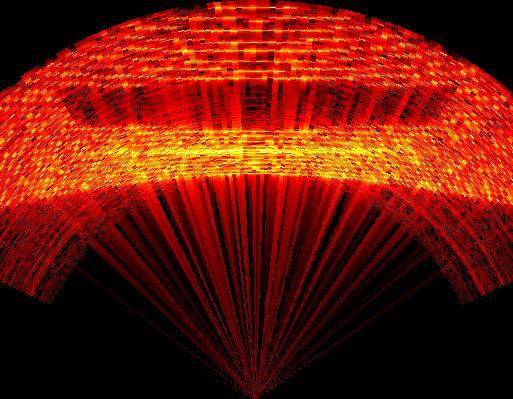pipe: (56, 87, 462, 129)
